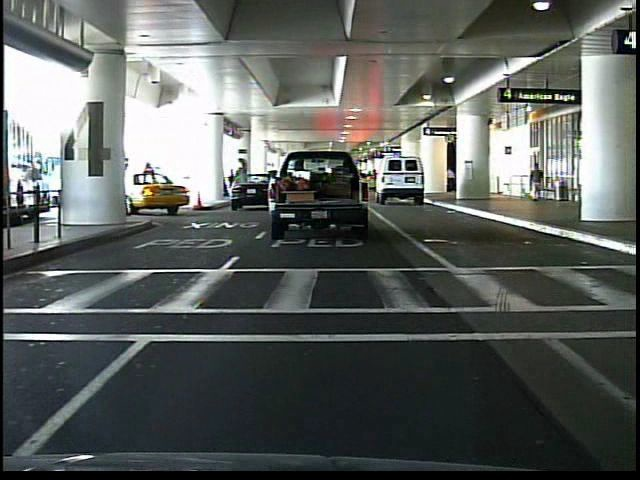person: (527, 158, 547, 208), (443, 165, 457, 198)
